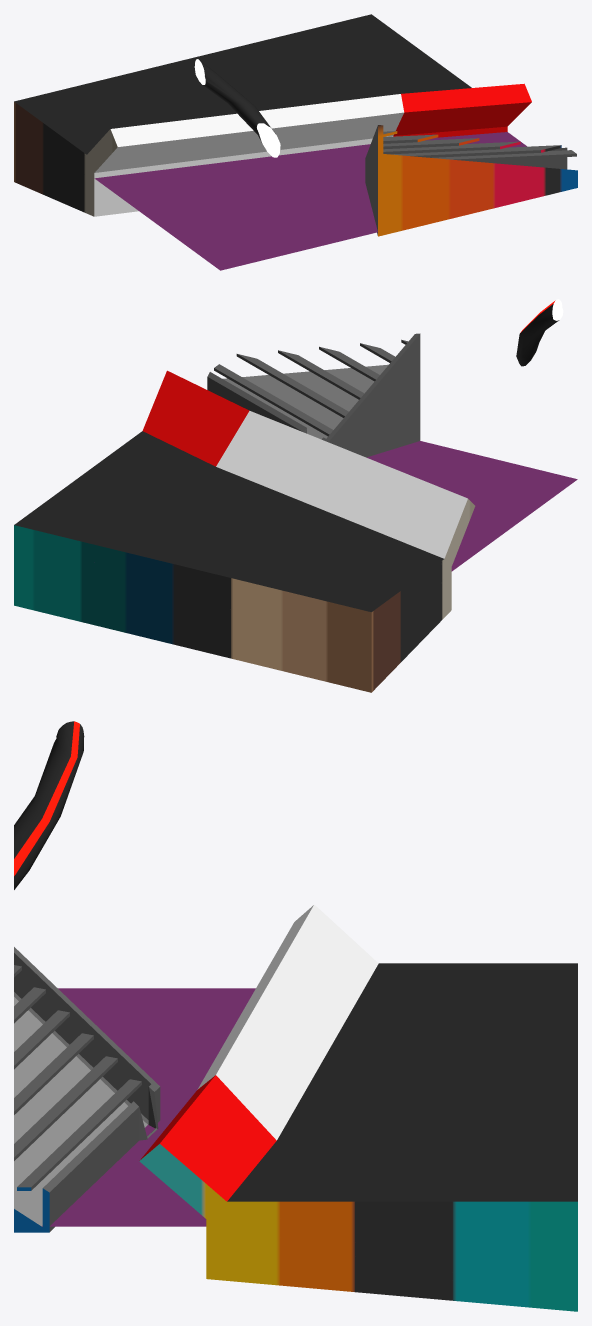
File: tile_7_0_10.gltf
The picture shows the model from 3 angles, top to bottom: view 1: azimuth 30°, elevation 25°; view 2: azimuth 150°, elevation 25°; view 3: azimuth 270°, elevation 25°; orthographic projection. The views are drawn at different scales.
Parts seen in each view (by area): view 1: track.095, Plane, Cube.008, Torus.017, Cube.085, Cube.086, Cube.084, Cube.087, Cube.088; view 2: track.095, Cube.008, Plane, Torus.017, Cube.084, Cube.085, Cube.086, Cube.087; view 3: track.095, Plane, Cube.008, Torus.017, Cube.084, Cube.085, Cube.086, Cube.087.
Part boxes in pixels (left/top/right/bottom): track.095: left=14, top=14, right=531, bottom=216; Plane: left=94, top=132, right=526, bottom=270; Cube.008: left=365, top=125, right=577, bottom=236; Torus.017: left=194, top=59, right=280, bottom=157; Cube.085: left=391, top=145, right=561, bottom=157; Cube.086: left=383, top=141, right=520, bottom=154; Cube.084: left=432, top=150, right=576, bottom=161; Cube.087: left=383, top=138, right=479, bottom=149; Cube.088: left=383, top=134, right=438, bottom=143; track.095: left=14, top=370, right=475, bottom=692; Cube.008: left=207, top=333, right=420, bottom=457; Plane: left=367, top=441, right=577, bottom=571; Torus.017: left=516, top=299, right=563, bottom=366; Cube.084: left=214, top=364, right=333, bottom=436; Cube.085: left=236, top=354, right=348, bottom=417; Cube.086: left=278, top=350, right=364, bottom=399; Cube.087: left=319, top=346, right=379, bottom=381; track.095: left=139, top=904, right=577, bottom=1311; Plane: left=42, top=988, right=255, bottom=1226; Cube.008: left=14, top=947, right=160, bottom=1232; Torus.017: left=14, top=721, right=84, bottom=889; Cube.084: left=17, top=1079, right=141, bottom=1190; Cube.085: left=14, top=1056, right=117, bottom=1160; Cube.086: left=14, top=1033, right=93, bottom=1114; Cube.087: left=14, top=1010, right=69, bottom=1069.
Size of the model in its own units: 8 by 5.51 by 8.
3 materials, 1 textured.
